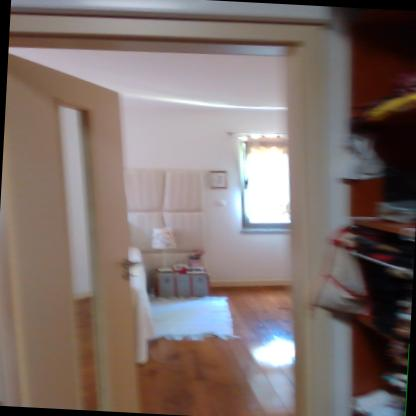semi: (0, 0, 332, 416)
